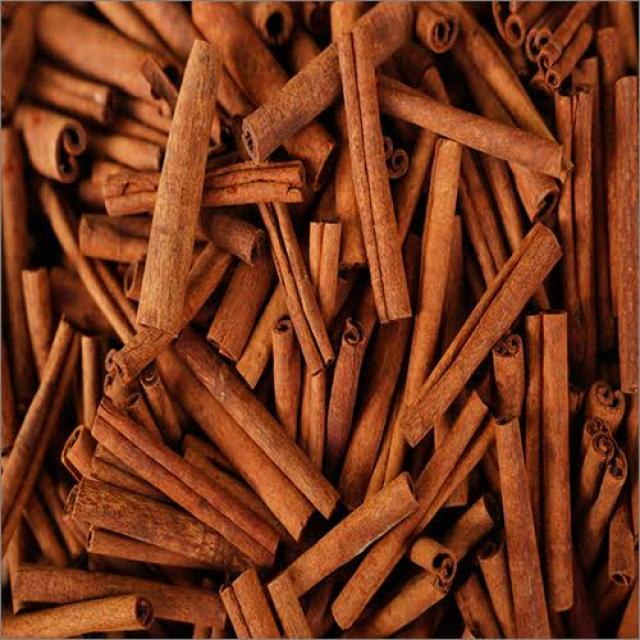Cinnamon: (248, 392, 506, 640), (106, 59, 275, 397), (63, 381, 296, 579), (340, 28, 413, 326), (166, 260, 248, 340)
